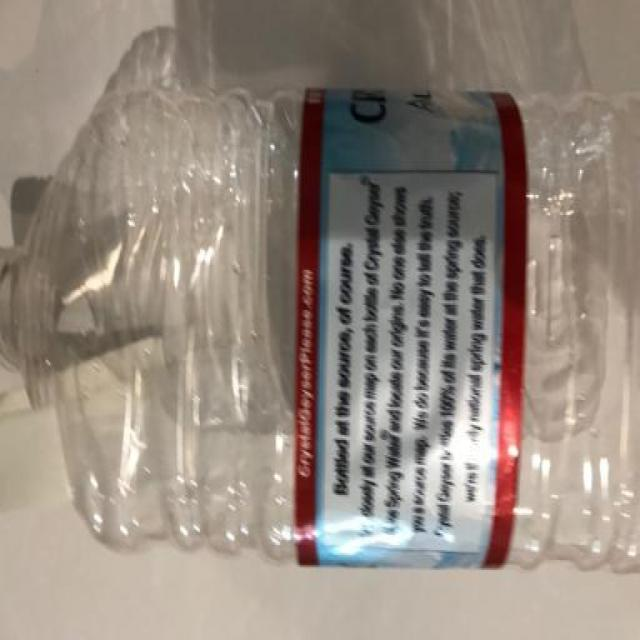plastic_bottle: (5, 23, 640, 602)
